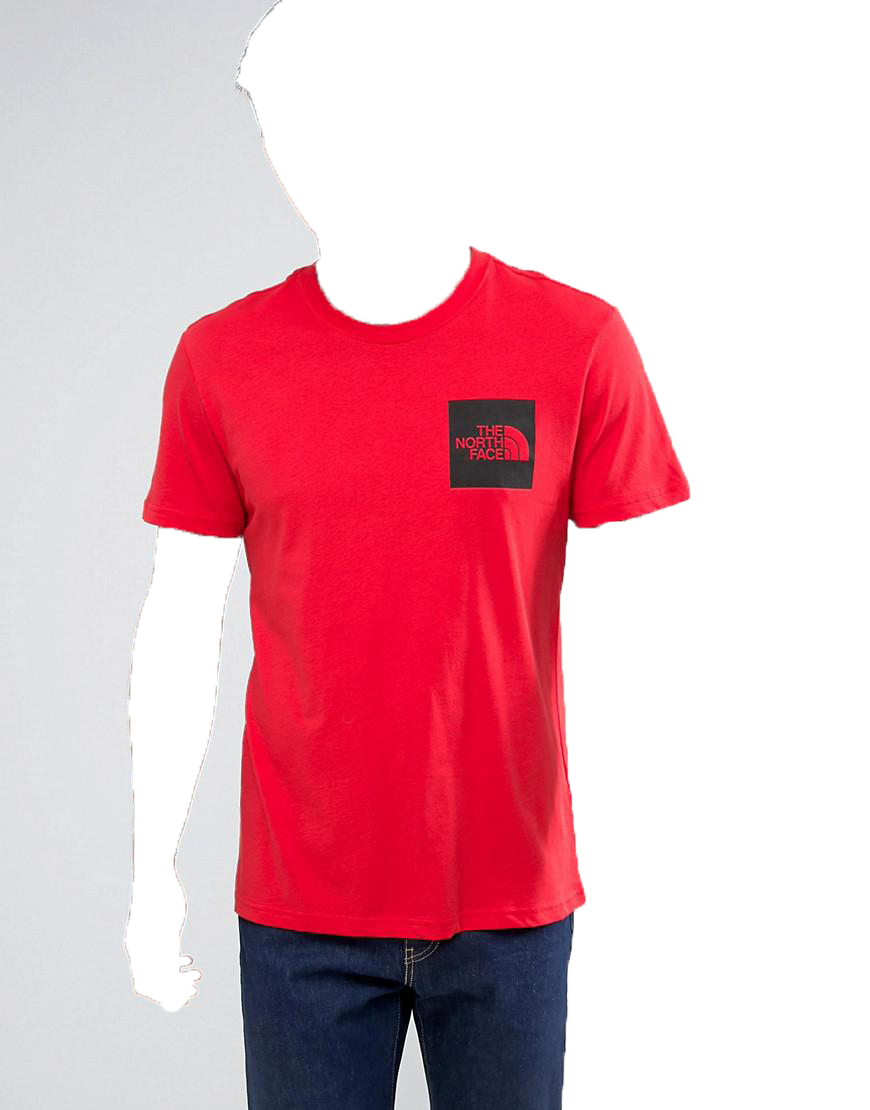teeshirt: (139, 247, 701, 944)
